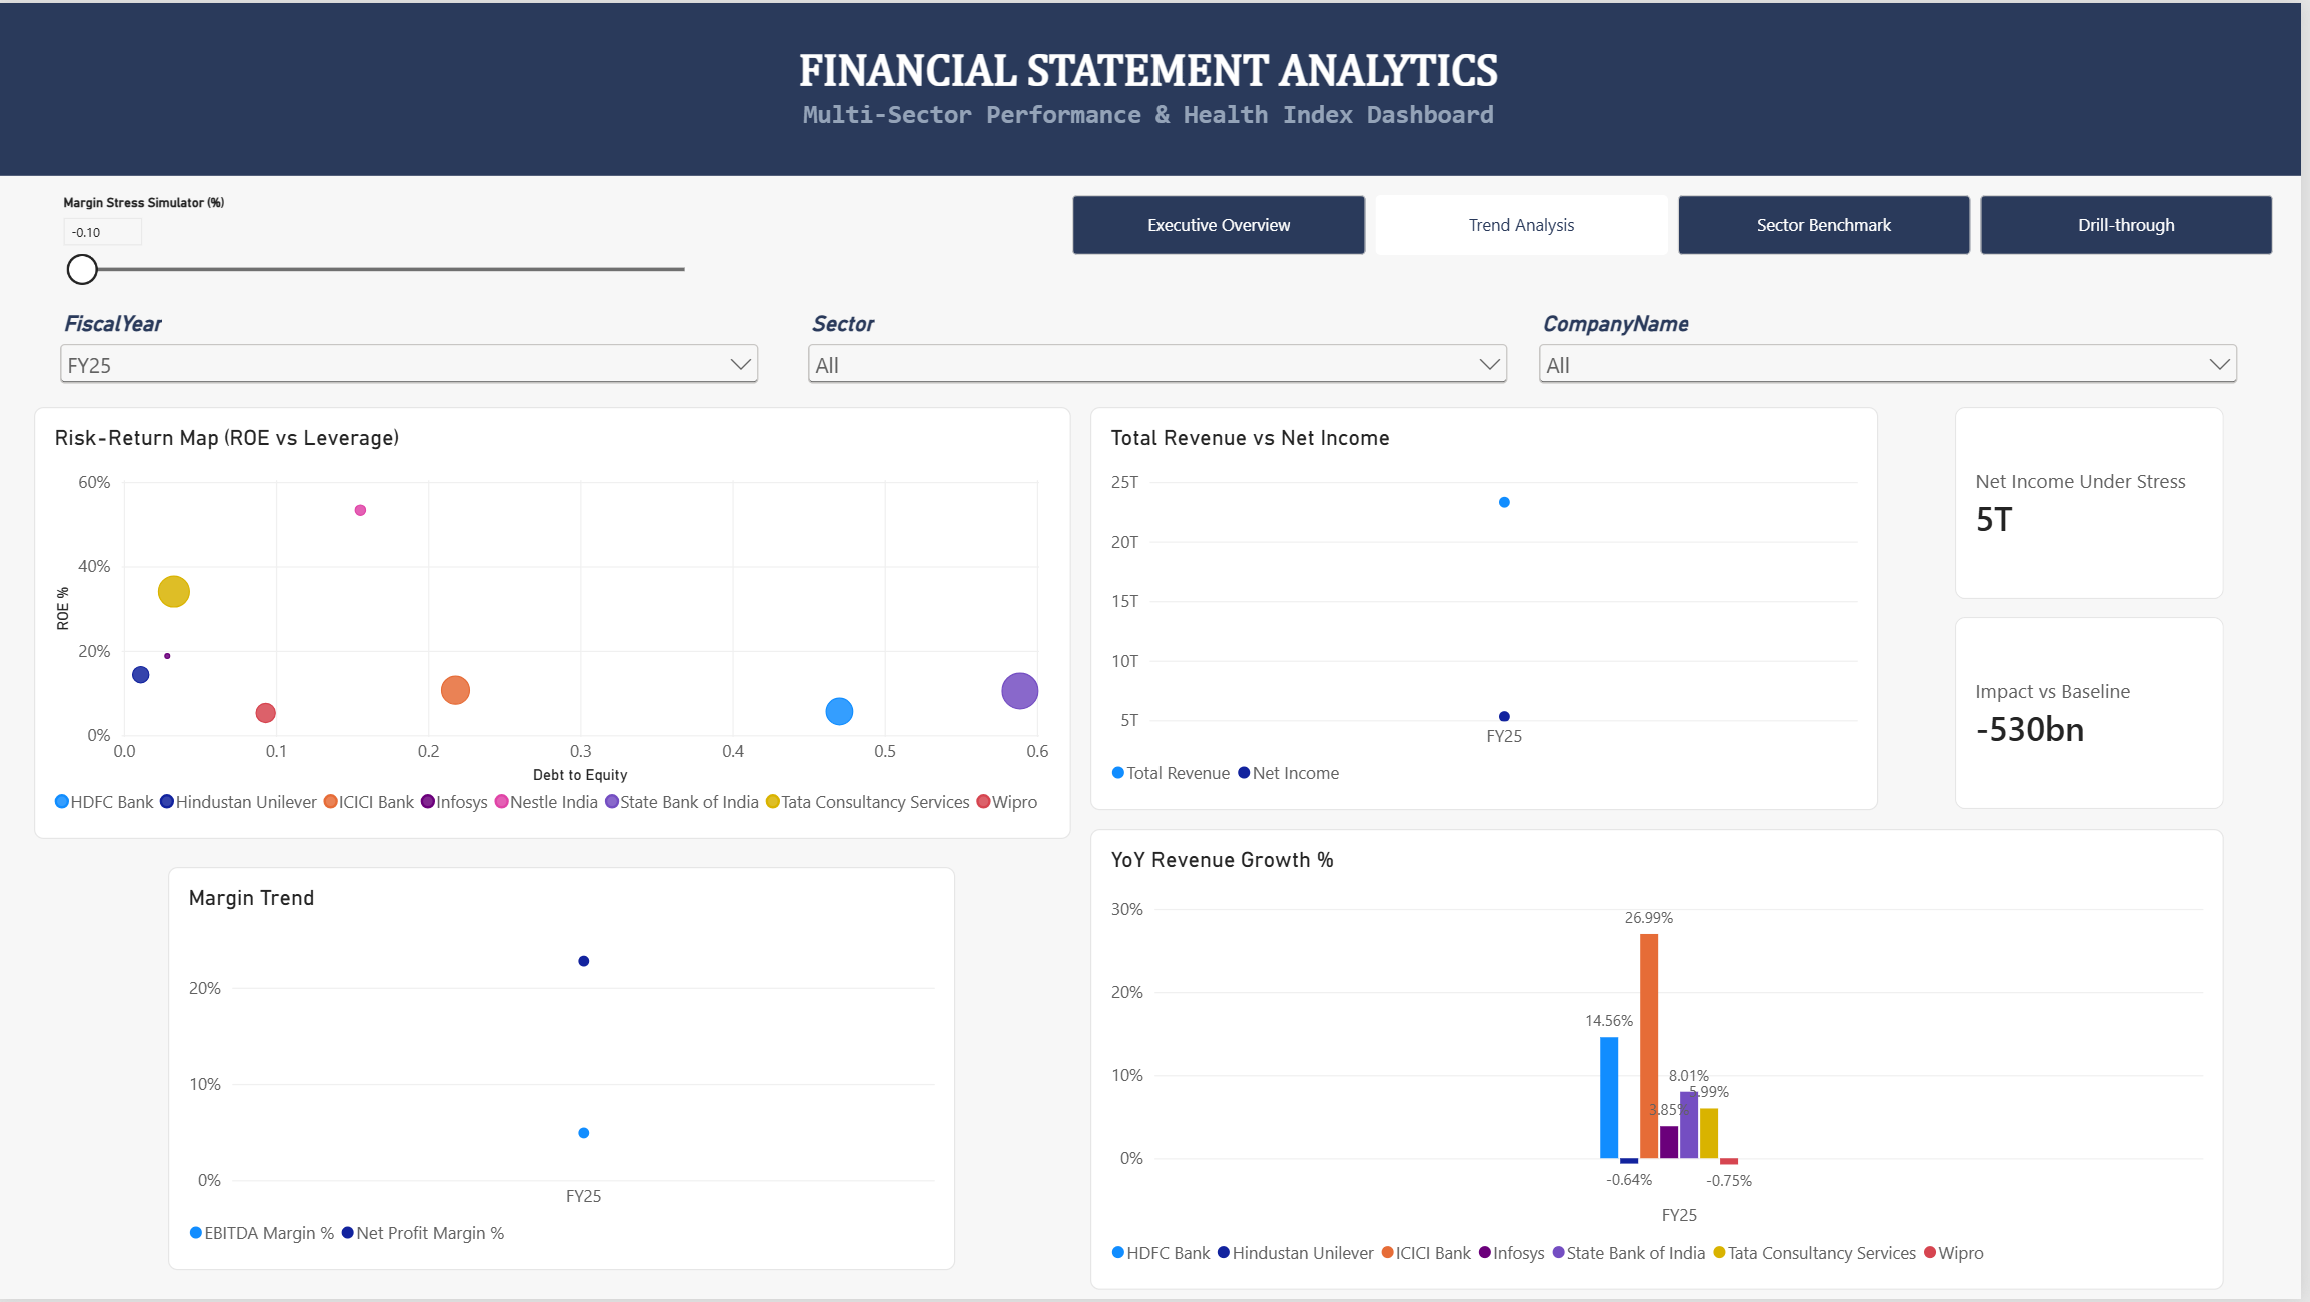

Layout of this report page (visuals, bound fields, positions):
{"tool":"powerbi","page":{"name":"Trend Analysis","canvas":[1920,1080],"ordinal":1},"visuals":[{"type":"shape","box":[0,0,1920,144],"z":0},{"type":"textbox","box":[0,16,1920,128],"z":1000},{"type":"slicer","fields":{"Values":["Dim_Date.FiscalYear"]},"box":[48,256,592,64],"z":2000},{"type":"slicer","fields":{"Values":["Dim_Company.Sector"]},"box":[672,256,592,64],"z":3000},{"type":"slicer","fields":{"Values":["Dim_Company.CompanyName"]},"box":[1280,256,592,64],"z":4000},{"type":"lineChart","title":"Total Revenue vs Net Income","fields":{"Category":["Dim_Date.FiscalYear"],"Y":["_Measures.Total Revenue","_Measures.Net Income"]},"box":[912,336,656,336],"z":5000},{"type":"lineChart","title":"Margin Trend","fields":{"Category":["Dim_Date.FiscalYear"],"Y":["_Measures.EBITDA Margin %","_Measures.Net Profit Margin %"]},"box":[144,720,656,336],"z":6000},{"type":"scatterChart","title":"Risk-Return Map (ROE vs Leverage)","fields":{"Series":["Dim_Company.CompanyName"],"Size":["_Measures.Total Revenue"],"X":["_Measures.Debt to Equity"],"Y":["_Measures.ROE %"]},"box":[32,336,864,360],"z":7000},{"type":"clusteredColumnChart","title":"YoY Revenue Growth % ","fields":{"Category":["Dim_Date.FiscalYear"],"Series":["Dim_Company.CompanyName"],"Y":["_Measures.YoY Revenue Growth %"]},"box":[912,688,944,384],"z":8000},{"type":"slicer","fields":{"Values":["Margin Stress %.Margin Stress %"]},"box":[48,160,544,96],"z":9000},{"type":"cardVisual","fields":{"Data":["_Measures.Stressed Net Income"]},"box":[1632,336,224,160],"z":10000},{"type":"cardVisual","fields":{"Data":["_Measures.Stress Impact"]},"box":[1632,512,224,160],"z":11000},{"type":"pageNavigator","box":[896,160,1000,50],"z":12000}]}

Visuals, with their boxes in screenshot pixels (x1, y1, x2, y2), scaled from the page's 1920x1080 canvas onto the 2310x1302 screenshot:
shape: detection(0, 0, 2309, 174)
textbox: detection(0, 19, 2309, 174)
slicer - Dim_Date.FiscalYear: detection(58, 309, 770, 386)
slicer - Dim_Company.Sector: detection(808, 309, 1521, 386)
slicer - Dim_Company.CompanyName: detection(1540, 309, 2252, 386)
"Total Revenue vs Net Income" lineChart: detection(1097, 405, 1886, 810)
"Margin Trend" lineChart: detection(173, 868, 962, 1273)
"Risk-Return Map (ROE vs Leverage)" scatterChart: detection(38, 405, 1078, 839)
"YoY Revenue Growth % " clusteredColumnChart: detection(1097, 829, 2233, 1292)
slicer - Margin Stress %.Margin Stress %: detection(58, 193, 712, 309)
cardVisual - _Measures.Stressed Net Income: detection(1964, 405, 2233, 598)
cardVisual - _Measures.Stress Impact: detection(1964, 617, 2233, 810)
pageNavigator: detection(1078, 193, 2281, 253)
